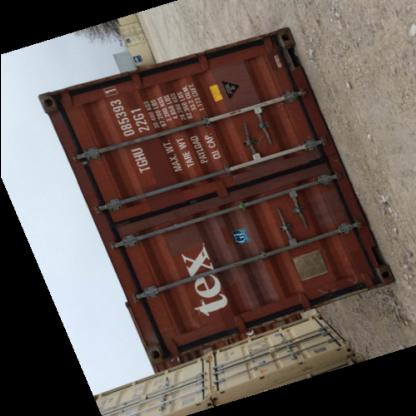Damage: (304, 195, 348, 236), (240, 30, 264, 48), (308, 284, 334, 300), (346, 272, 364, 290)
